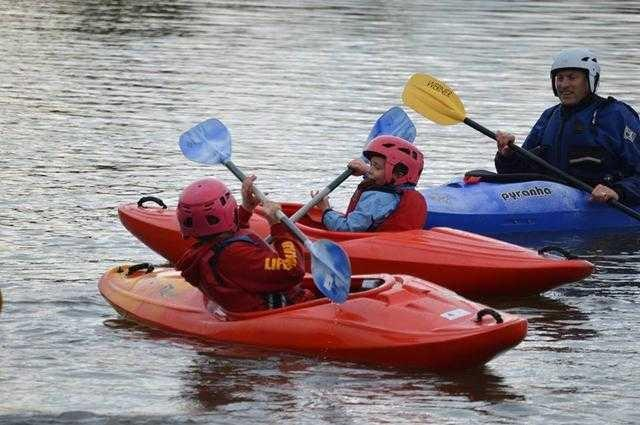kayak: (119, 135, 605, 309), (100, 256, 527, 370), (281, 219, 594, 300), (419, 174, 640, 252)
